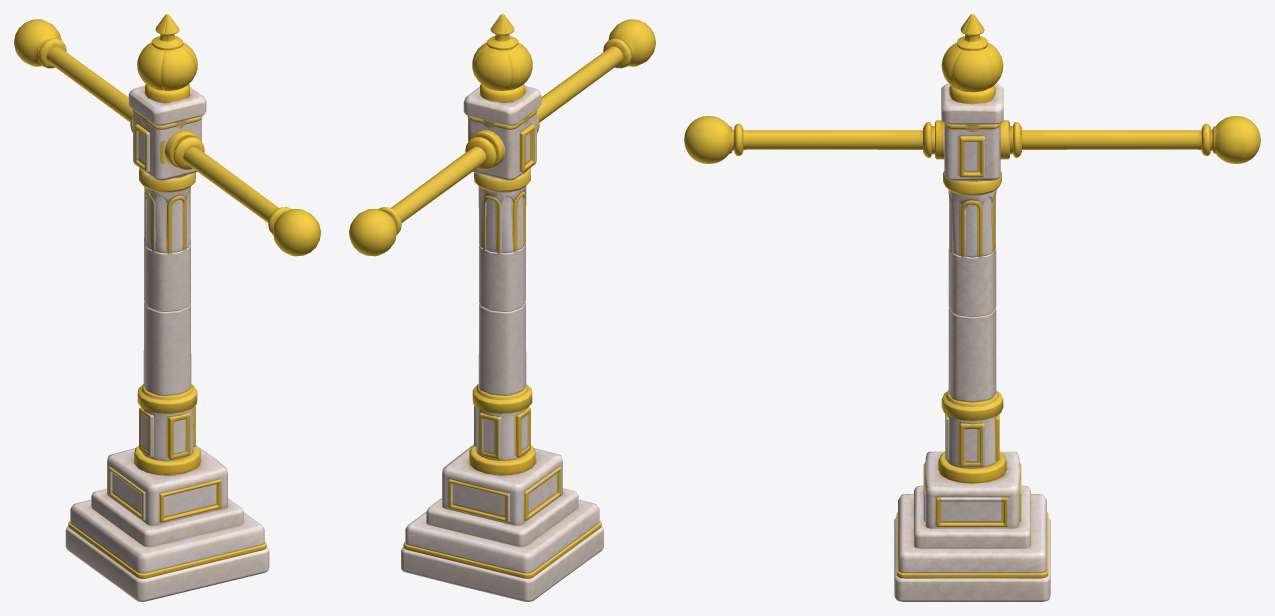
File: HaloFlagpole_3_SM_tex4k_pbr_src.fbx
3 renders of one model, left to right at view 1: azimuth 30°, elevation 25°; view 2: azimuth 150°, elevation 25°; view 3: azimuth 270°, elevation 25°, orthographic.
Parts seen in each view (by area): view 1: e62751e9_6c83_458e_b18f_da660474d318; view 2: e62751e9_6c83_458e_b18f_da660474d318; view 3: e62751e9_6c83_458e_b18f_da660474d318.
Part boxes in pixels (x1,y1,x2,y2): e62751e9_6c83_458e_b18f_da660474d318: (14, 14, 320, 601); e62751e9_6c83_458e_b18f_da660474d318: (349, 14, 655, 601); e62751e9_6c83_458e_b18f_da660474d318: (684, 14, 1260, 601).
Size of the model in its own units: 0.2544 by 0.9995 by 0.9399.
1 material, 1 textured.
